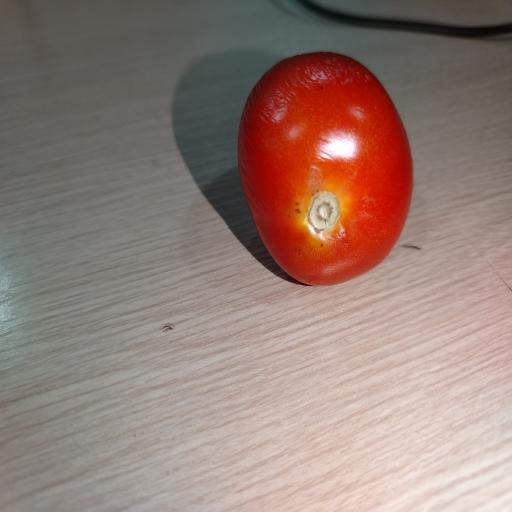spoiled: (238, 52, 413, 285)
